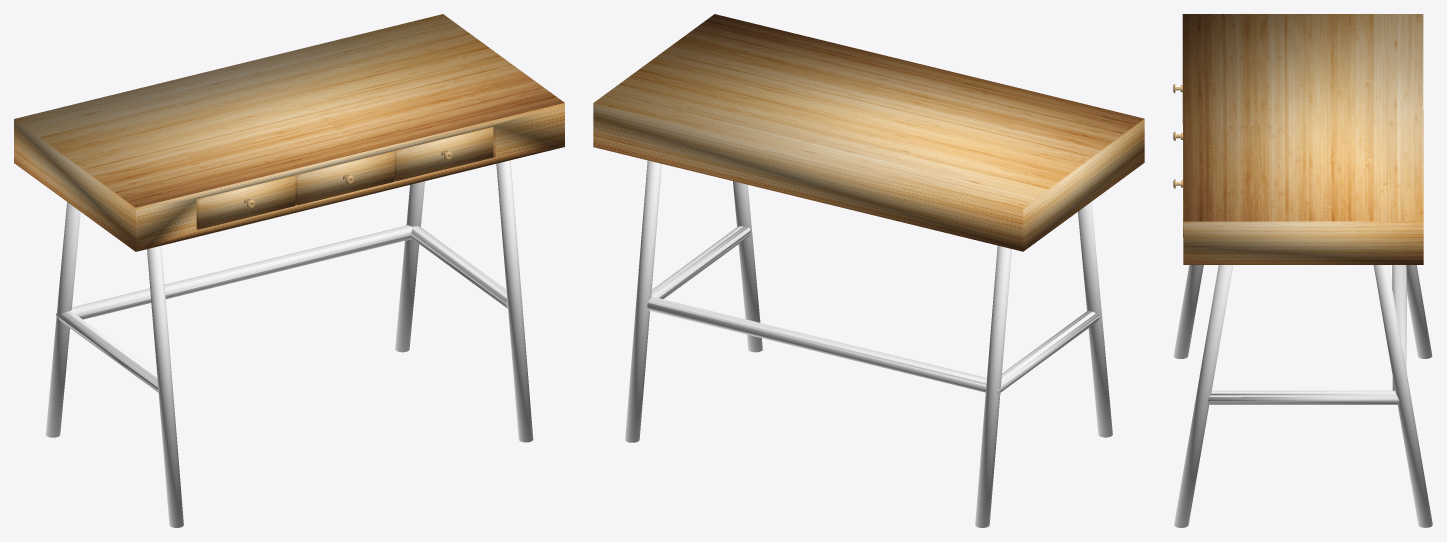
File: desk_4.glb
3 renders of one model, left to right at view 1: azimuth 30°, elevation 25°; view 2: azimuth 150°, elevation 25°; view 3: azimuth 270°, elevation 25°, orthographic.
Parts seen in each view (by area): view 1: IKE160121.001; view 2: IKE160121.001; view 3: IKE160121.001.
Boxes of the visible parts, left/top/right/bottom form: IKE160121.001: left=14, top=14, right=564, bottom=527; IKE160121.001: left=593, top=14, right=1144, bottom=527; IKE160121.001: left=1173, top=14, right=1432, bottom=527.
Bounding box in the file's own units: 102 × 74 × 53.97.
2 materials, 1 textured.
